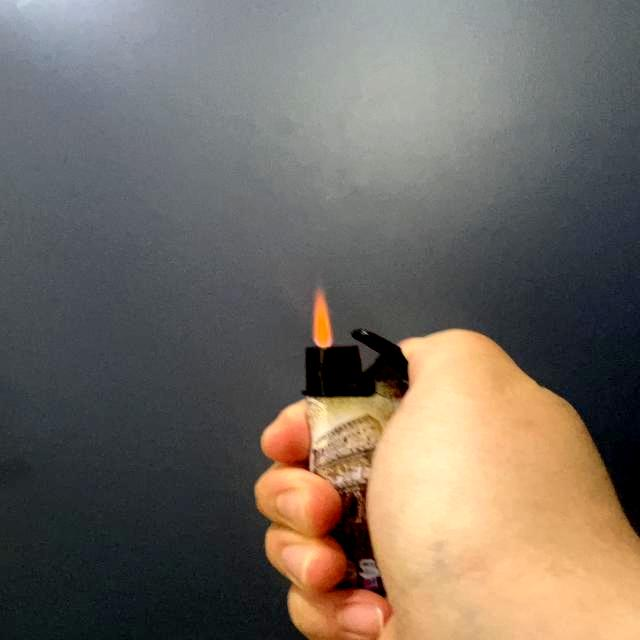fire: (309, 281, 335, 349)
